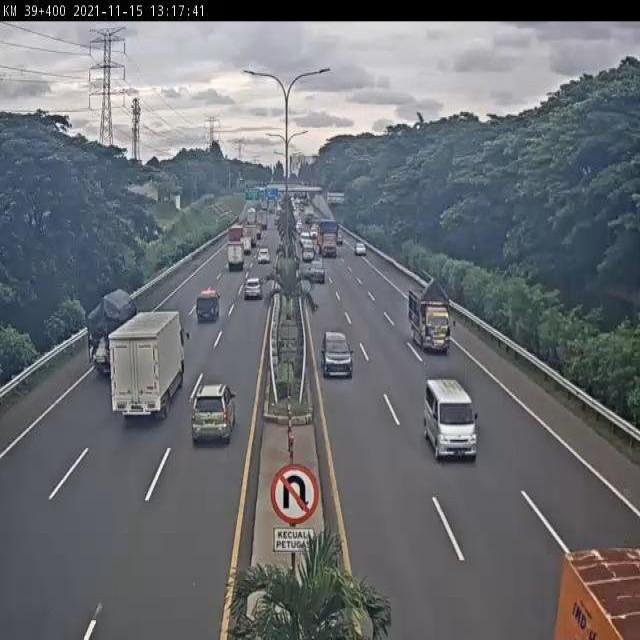bus-s-: (422, 376, 478, 467)
car: (189, 383, 237, 448), (320, 328, 354, 380), (244, 275, 264, 301), (308, 259, 327, 285), (256, 246, 271, 266)
small truck: (195, 286, 222, 322)
truck-m-: (108, 307, 186, 424), (87, 287, 139, 384), (406, 283, 453, 357), (226, 241, 246, 271)
truck-xl-: (319, 225, 340, 259)
